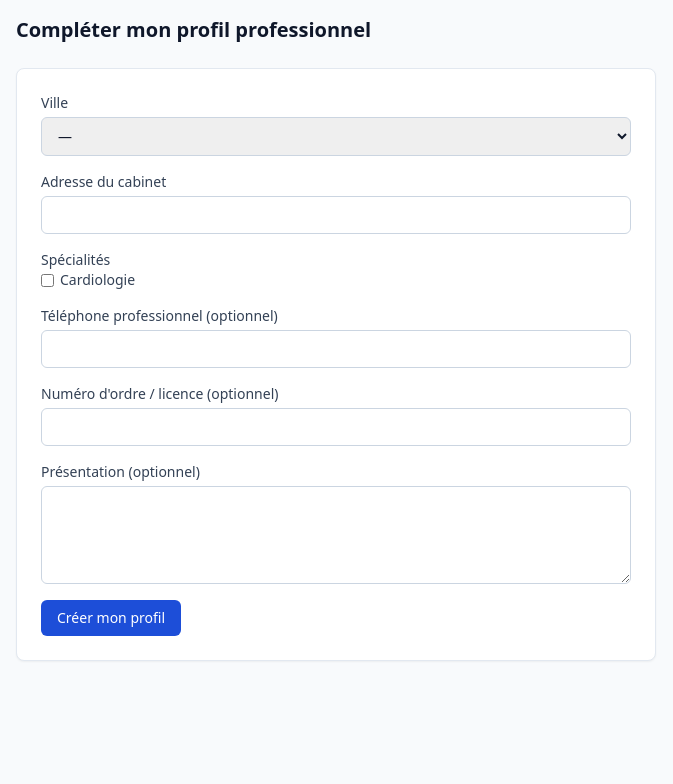
Test case: DoctorDashboardProfilePage › création : affiche le message de succès après création (ne disparaît pas avec le formulaire démonté)
Expected: the heading "Compléter mon profil professionnel" is shown, [16, 16, 371, 43]
Select "Casablanca" in the dropdown labelled "Ville": coordinates (336, 136) [41, 117, 631, 156]
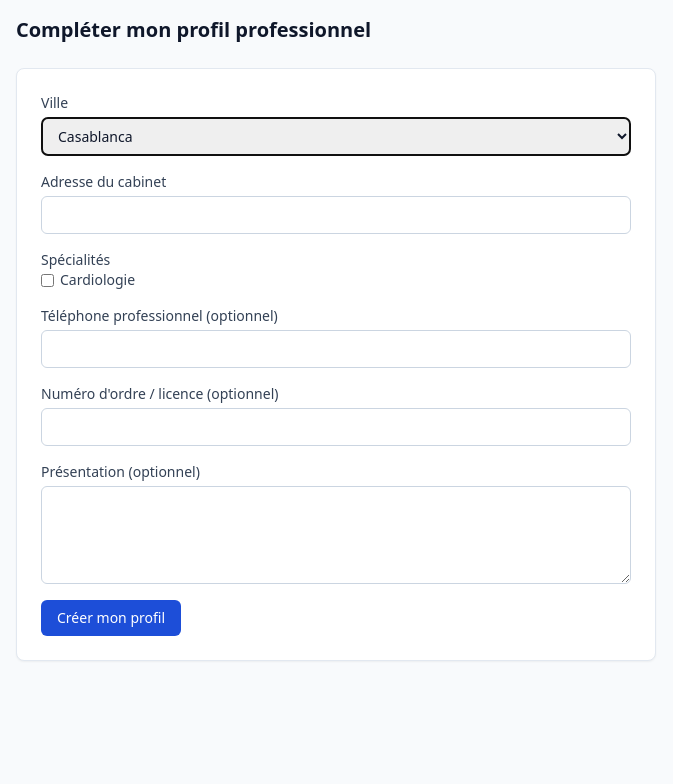
In the field labelled "Adresse du cabinet": coordinates (336, 215) [41, 196, 631, 234], type "12 rue des Fleurs"
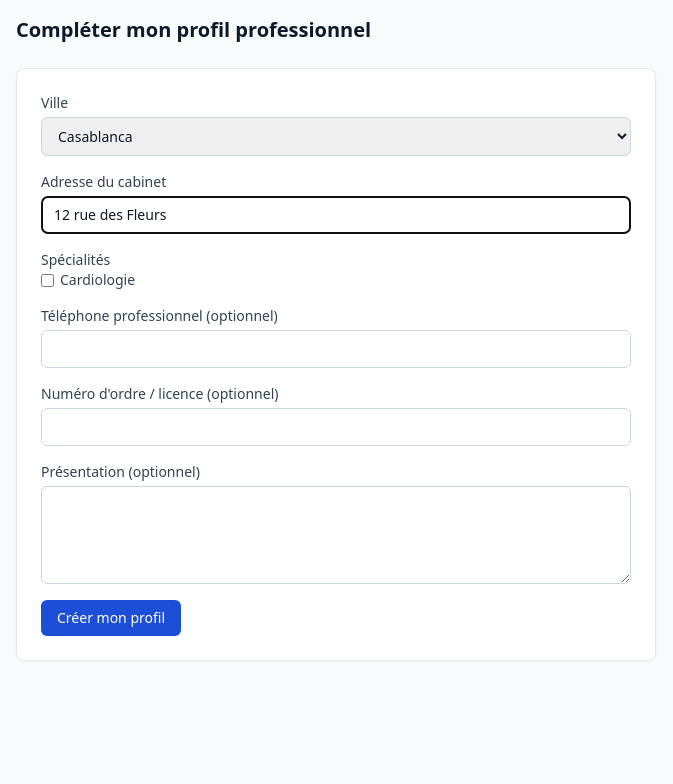
Click the checkbox labelled "Cardiologie": coordinates (48, 280) [41, 274, 54, 286]
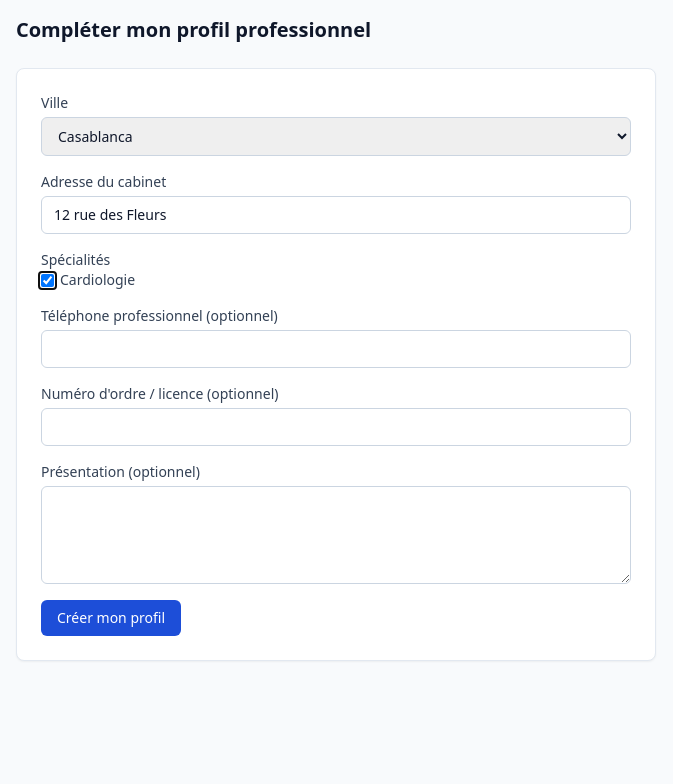
Click the button "Créer mon profil": coordinates (111, 618) [41, 600, 181, 636]
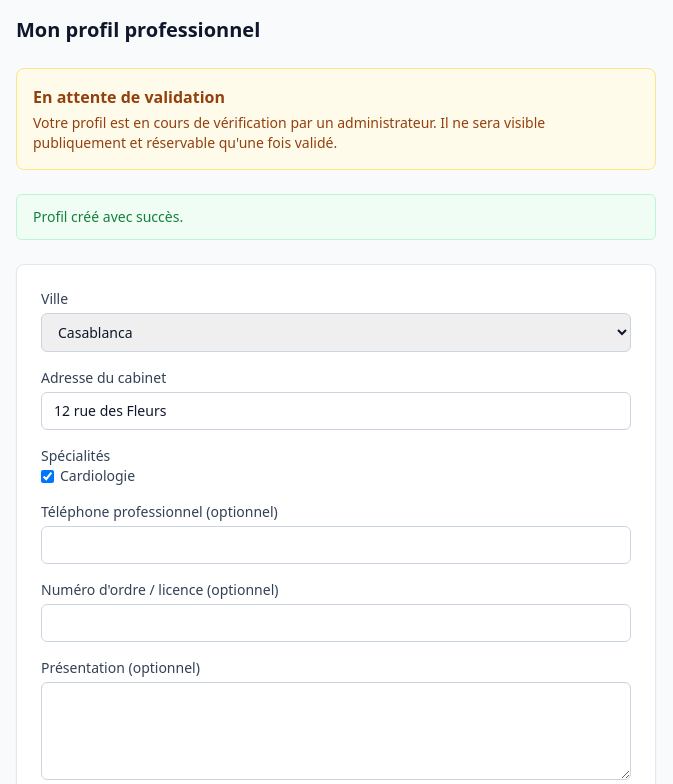
Result: the text "Profil créé avec succès." is shown at [16, 194, 656, 240]
Result: the text "En attente de validation" is shown at [33, 86, 225, 108]
